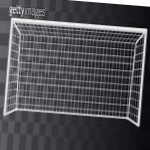goals: (3, 17, 150, 129)
